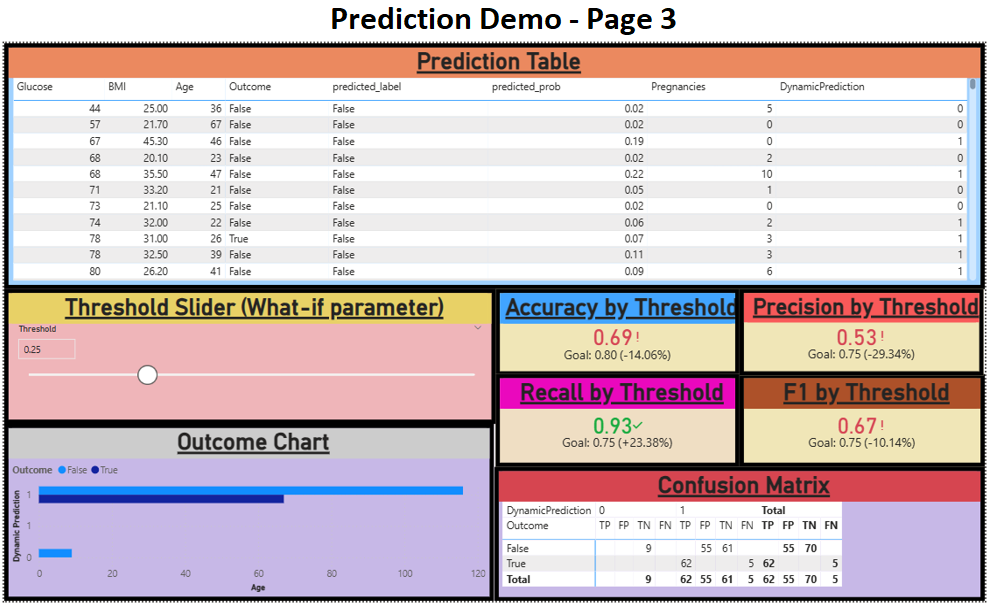

The page's visual inventory and layout, read from the dashboard file:
{"tool":"powerbi","page":{"name":"Prediction Demo","canvas":[1280,720],"ordinal":2},"visuals":[{"type":"tableEx","title":"Prediction Table","fields":{"Values":["predictions_sample_diabetes.Glucose","predictions_sample_diabetes.BMI","predictions_sample_diabetes.Age","predictions_sample_diabetes.Outcome","predictions_sample_diabetes.predicted_label","predictions_sample_diabetes.predicted_prob","predictions_sample_diabetes.Pregnancies","predictions_sample_diabetes.DynamicPrediction"]},"box":[0,0,1280.3,317.9],"z":0},{"type":"slicer","title":"Threshold Slider (What-if parameter)","fields":{"Values":["Threshold.Threshold"]},"box":[0,317.5,641.3,174.7],"z":1000},{"type":"clusteredBarChart","title":"Outcome Chart","fields":{"Category":["predictions_sample_diabetes.DynamicPrediction"],"Series":["predictions_sample_diabetes.Outcome"],"Y":["CountNonNull(predictions_sample_diabetes.Age)"]},"box":[0,491.6,639.5,228.7],"z":2000},{"type":"pivotTable","title":"Confusion Matrix","fields":{"Rows":["predictions_sample_diabetes.Outcome"],"Columns":["predictions_sample_diabetes.DynamicPrediction"],"Values":["predictions_sample_diabetes.TP","predictions_sample_diabetes.FP","predictions_sample_diabetes.TN","predictions_sample_diabetes.FN"]},"box":[640,546.9,640,173.4],"z":3000},{"type":"kpi","title":"Accuracy by Threshold","fields":{"Indicator":["predictions_sample_diabetes.Accuracy"],"Goal":["predictions_sample_diabetes.TargetAccuracy"],"TrendLine":["Threshold.Threshold"]},"box":[641.3,317.5,318.7,112.2],"z":4000},{"type":"kpi","title":"Recall by Threshold","fields":{"Indicator":["predictions_sample_diabetes.Recall"],"Goal":["predictions_sample_diabetes.TargetRecall"],"TrendLine":["Threshold.Threshold"]},"box":[641.3,427.1,318.7,119.8],"z":5000},{"type":"kpi","title":"F1 by Threshold","fields":{"Indicator":["predictions_sample_diabetes.F1"],"Goal":["predictions_sample_diabetes.TargetF1"],"TrendLine":["Threshold.Threshold"]},"box":[960,427.1,320,119.8],"z":6000},{"type":"kpi","title":"Precision by Threshold","fields":{"Indicator":["predictions_sample_diabetes.Precision"],"Goal":["predictions_sample_diabetes.TargetPrecision"],"TrendLine":["Threshold.Threshold"]},"box":[960,317.5,318.7,112.2],"z":7000}]}

Visuals, with their boxes in screenshot pixels (x1, y1, x2, y2):
"Prediction Table" tableEx: {"left": 3, "top": 44, "right": 979, "bottom": 286}
"Threshold Slider (What-if parameter)" slicer: {"left": 3, "top": 286, "right": 492, "bottom": 419}
"Outcome Chart" clusteredBarChart: {"left": 3, "top": 419, "right": 490, "bottom": 593}
"Confusion Matrix" pivotTable: {"left": 491, "top": 461, "right": 979, "bottom": 593}
"Accuracy by Threshold" kpi: {"left": 492, "top": 286, "right": 735, "bottom": 372}
"Recall by Threshold" kpi: {"left": 492, "top": 370, "right": 735, "bottom": 461}
"F1 by Threshold" kpi: {"left": 735, "top": 370, "right": 979, "bottom": 461}
"Precision by Threshold" kpi: {"left": 735, "top": 286, "right": 978, "bottom": 372}
